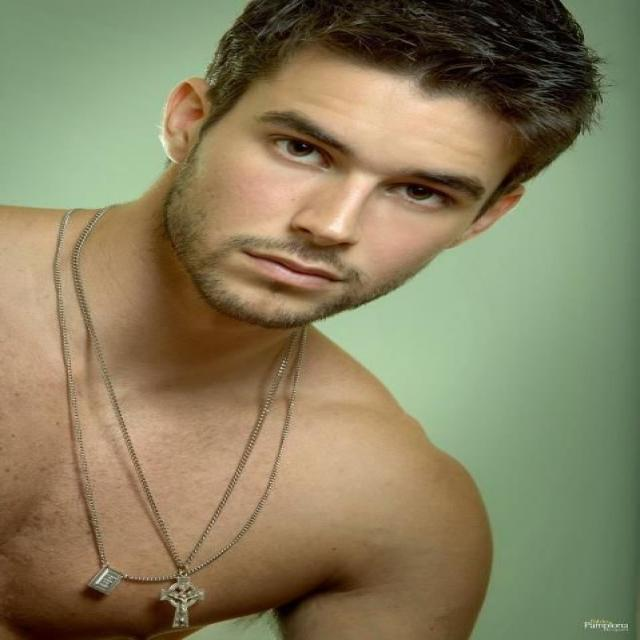earlobe: (166, 140, 191, 165)
eye: (271, 138, 330, 168), (389, 183, 450, 206)
nose: (284, 228, 352, 266)
wholeear: (445, 184, 526, 248), (160, 77, 213, 165)
